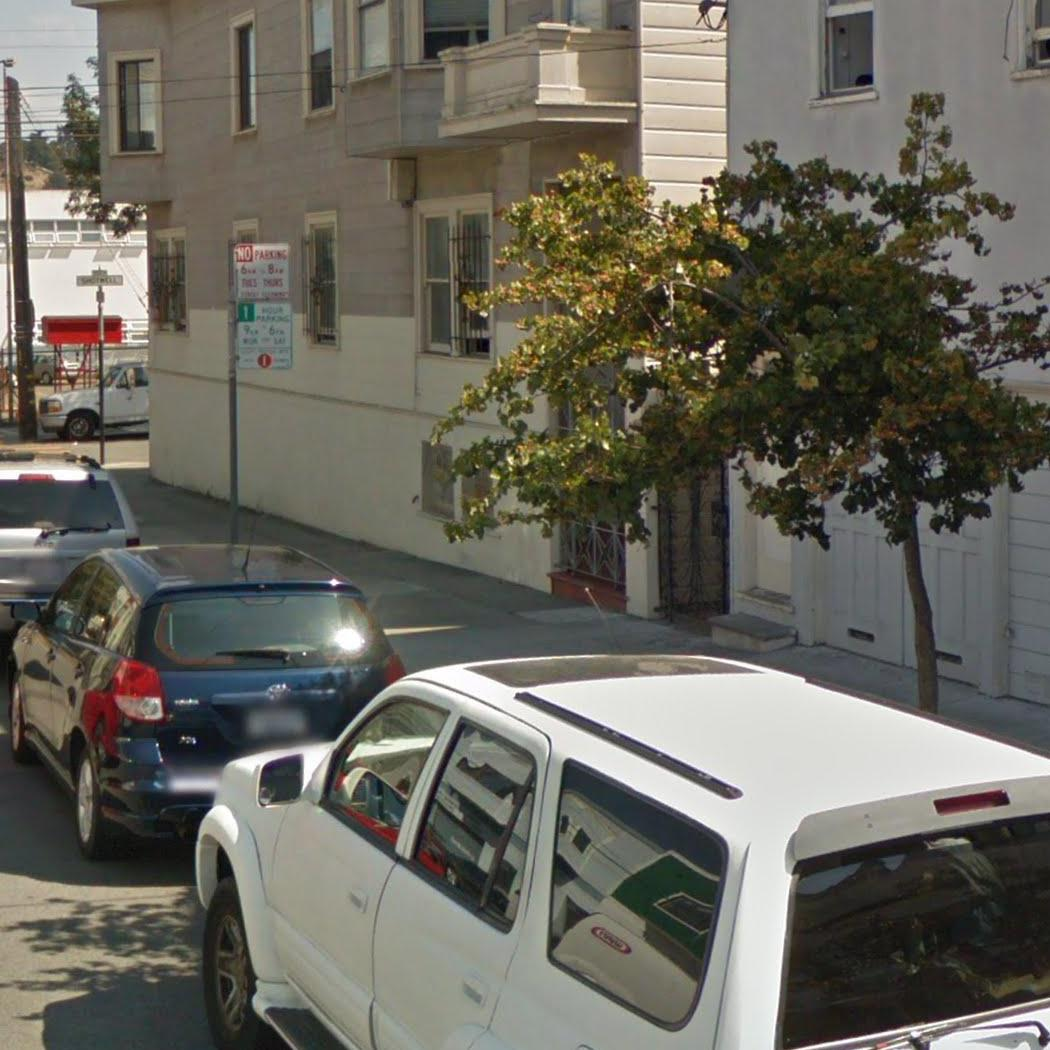1 Hour Parking: (234, 299, 295, 372)
No Parking: (230, 241, 293, 303)
